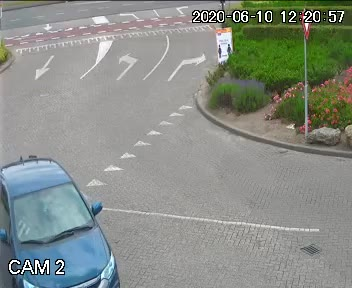car: (0, 148, 121, 288)
